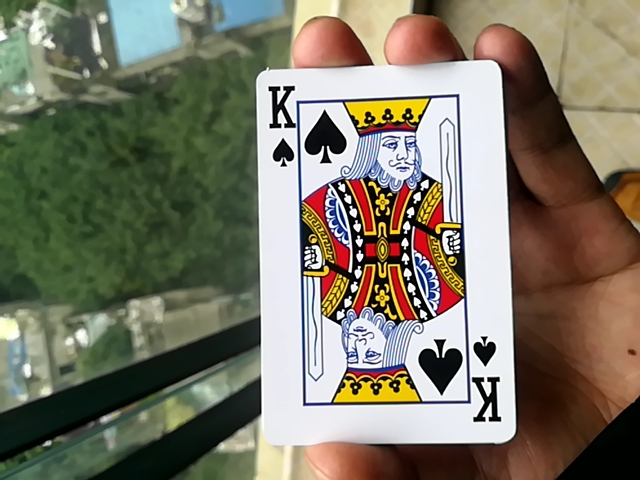ht k: (242, 65, 506, 449)
